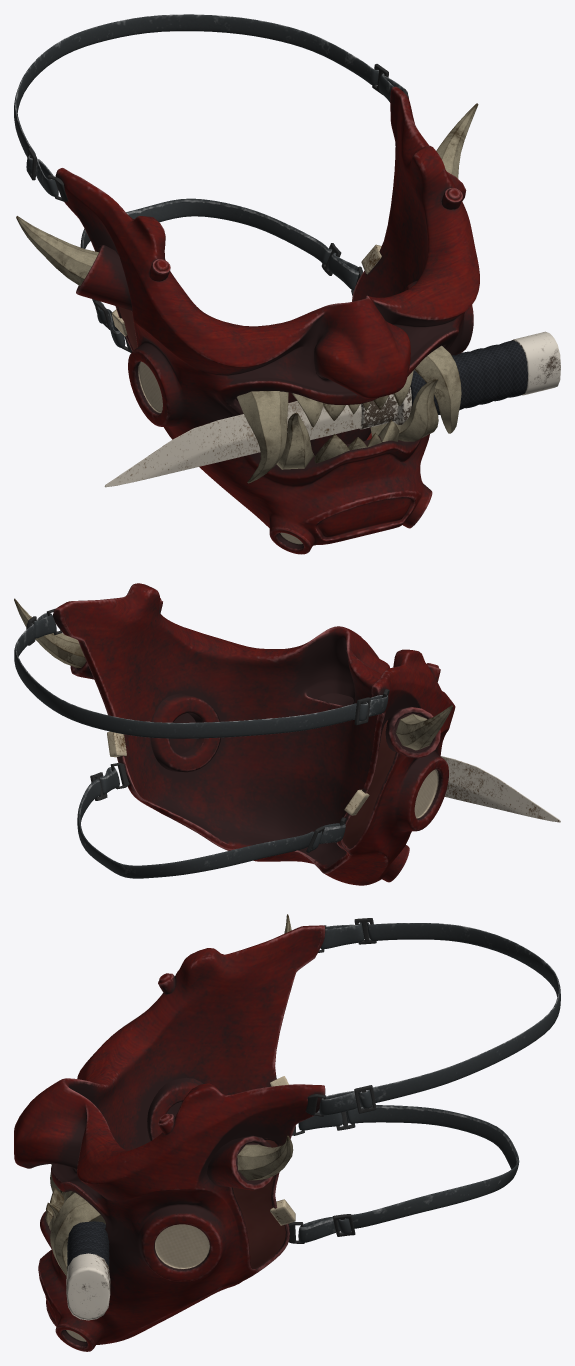
The model's file is samurai_mask.glb.
3 renders of one model, top to bottom at view 1: azimuth 30°, elevation 25°; view 2: azimuth 150°, elevation 25°; view 3: azimuth 270°, elevation 25°, orthographic. The views are drawn at different scales.
Visible parts, largest first — view 1: mask7_mask1, mask7_teeth, mask7_knife, mask7_pPlane7, mask7_pPlane13, mask7_rubber; view 2: mask7_mask1, mask7_pPlane7, mask7_pPlane13, mask7_knife, mask7_teeth, mask7_pCube19; view 3: mask7_mask1, mask7_pPlane7, mask7_pPlane13, mask7_teeth, mask7_knife, mask7_rubber.
Part boxes in pixels (x1,y1,x2,y2): mask7_mask1: (55, 86, 479, 554); mask7_teeth: (16, 103, 478, 483); mask7_knife: (104, 331, 560, 487); mask7_pPlane7: (14, 14, 407, 196); mask7_pPlane13: (80, 198, 359, 347); mask7_rubber: (410, 340, 527, 415); mask7_mask1: (53, 583, 455, 885); mask7_pPlane7: (14, 613, 388, 738); mask7_pPlane13: (77, 767, 345, 878); mask7_knife: (440, 756, 560, 822); mask7_teeth: (14, 598, 452, 750); mask7_pCube19: (107, 731, 126, 757); mask7_mask1: (14, 925, 325, 1351); mask7_pPlane7: (319, 922, 560, 1115); mask7_pPlane13: (298, 1105, 519, 1242); mask7_teeth: (45, 914, 293, 1276); mask7_knife: (66, 1253, 110, 1320); mask7_rubber: (67, 1221, 109, 1270).
Bounding box in the file's own units: 0.204 × 0.1392 × 0.2067.
7 materials, 7 textured.
